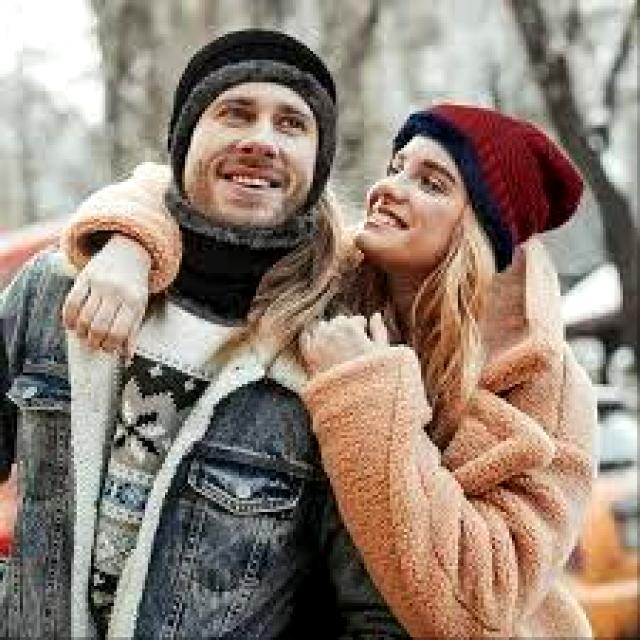hat: (393, 103, 583, 270), (168, 29, 335, 210)
